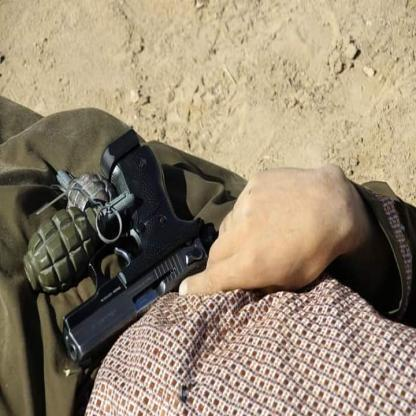Grenade: (24, 192, 136, 296), (54, 169, 117, 222)
Pistol: (64, 127, 215, 366)
